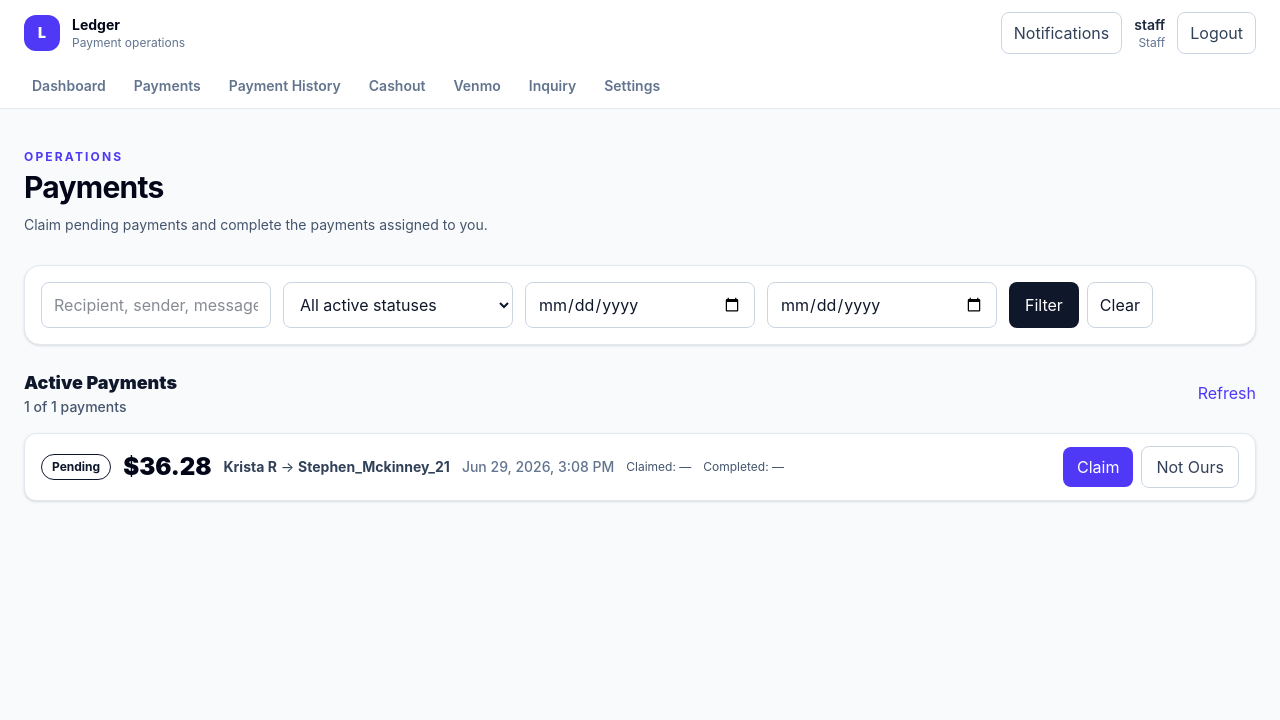
Test: PaymentsPage pagination › dismisses Not Ours through the backend and refreshes the active list
Expected: the text "Krista R" is shown, top-left (224, 457), bottom-right (277, 477)
Click the button "Not Ours" at (1190, 467), box top-left (1142, 446), bottom-right (1239, 488)
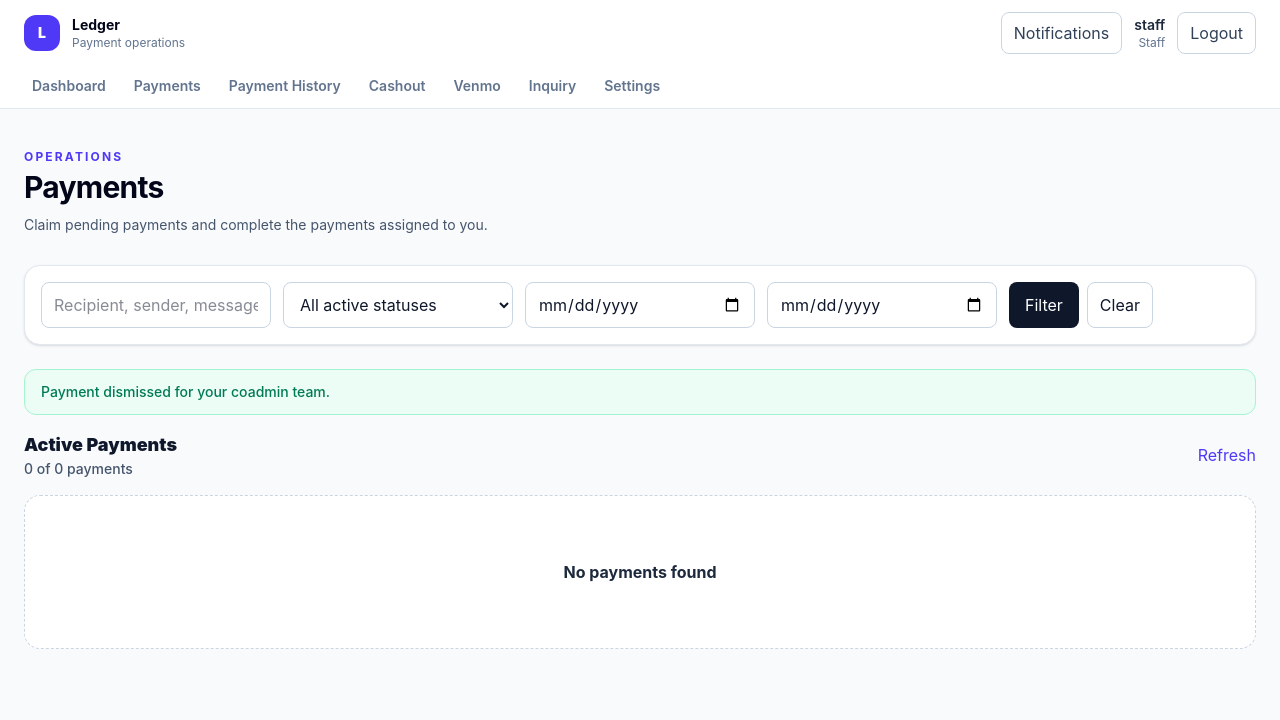
Now the text "Krista R" is gone
